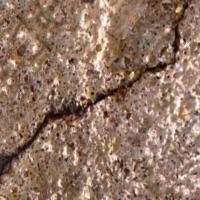crack: (0, 0, 193, 172)
